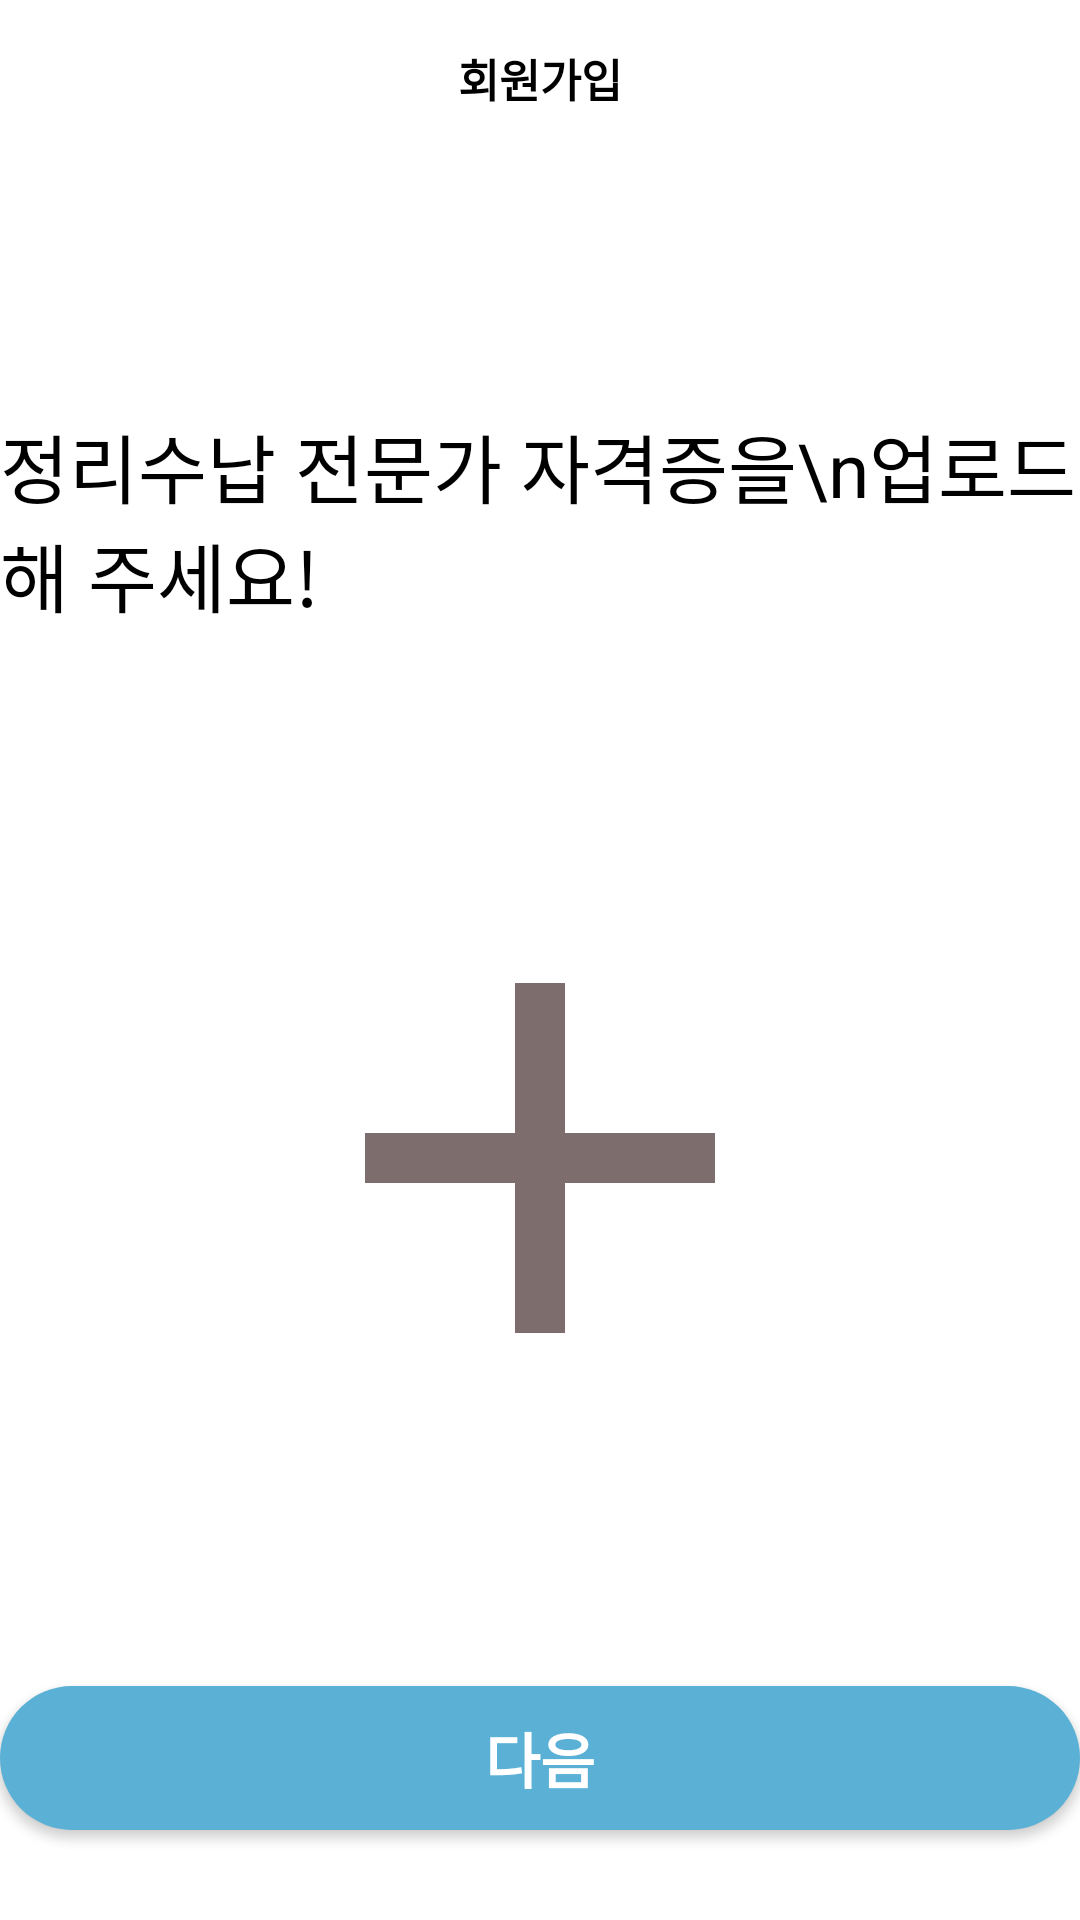

Where to tap for icons on this 1080 x 1920 app screen, as (x=x, y=y):
add: (x=540, y=1158)
